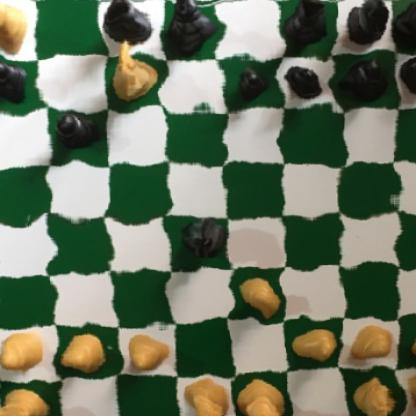black-bishop: (105, 0, 158, 52), (274, 0, 329, 49)
black-king: (162, 0, 213, 55)
black-knight: (179, 214, 227, 268), (345, 0, 392, 47)
black-pawn: (52, 109, 101, 158), (345, 54, 392, 102), (232, 62, 278, 106), (285, 60, 331, 104), (0, 59, 34, 104), (404, 51, 416, 100)
black-rook: (394, 0, 416, 49)
white-bishop: (0, 0, 32, 54)
white-king: (234, 381, 285, 416)
white-knight: (109, 36, 158, 102), (350, 375, 396, 416)
white-pawn: (59, 331, 114, 373), (233, 273, 280, 322), (0, 327, 51, 371), (347, 323, 394, 366), (126, 332, 174, 372), (287, 323, 337, 361), (403, 313, 416, 363)
white-queen: (181, 375, 229, 416)
white-rook: (0, 379, 55, 416), (400, 366, 416, 416)
